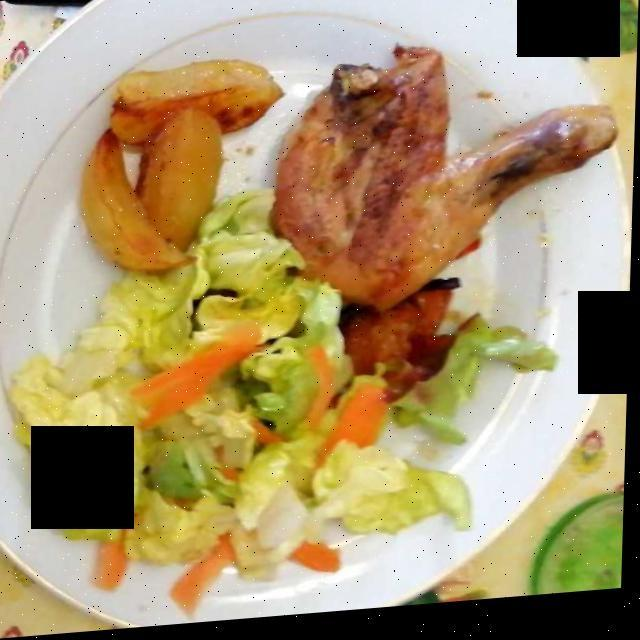chicken: (277, 31, 622, 337)
potatoes: (87, 66, 276, 271)
salad: (0, 192, 563, 611)
